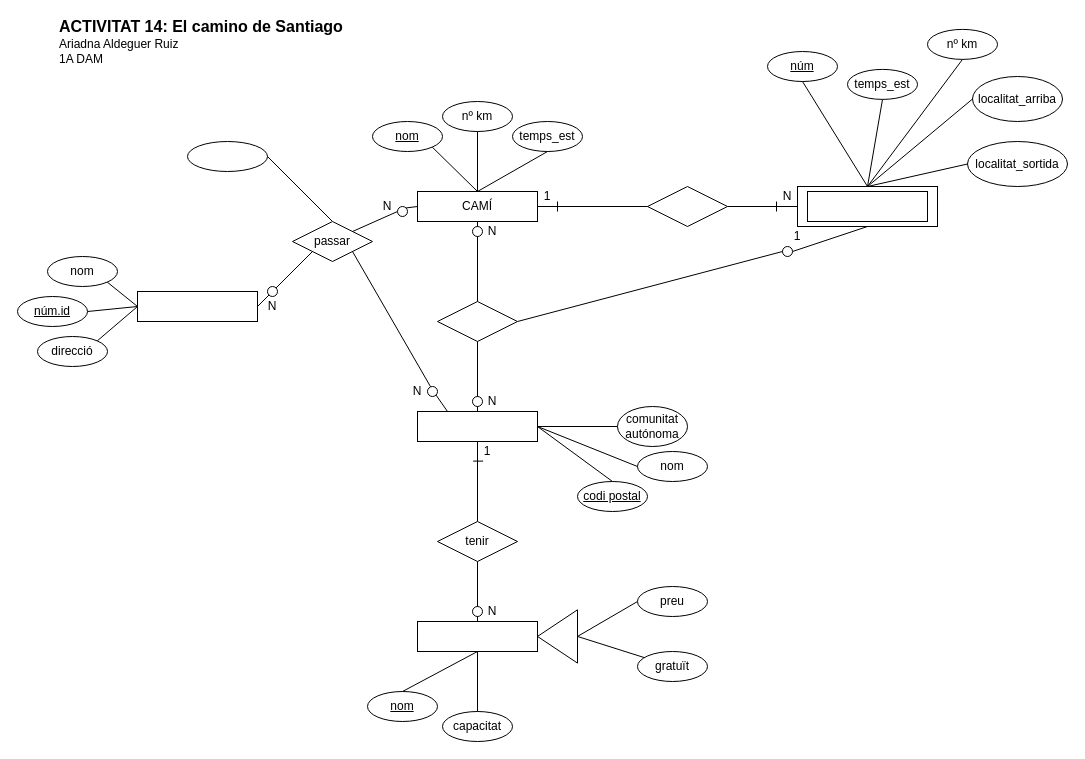
The diagram is 1085 pixels wide and 759 high, and some of its shapes have lost their labels. Each missing label, with the centre of its shape:
"ALBERG" belongs at (477,636).
"compon" belongs at (687,206).
"dia_arribada" belongs at (227,156).
"ETAPA" belongs at (867,206).
"LOCALITAT" belongs at (477,426).
"PEREGRÍ" belongs at (197,306).
"travessar" belongs at (477,321).
